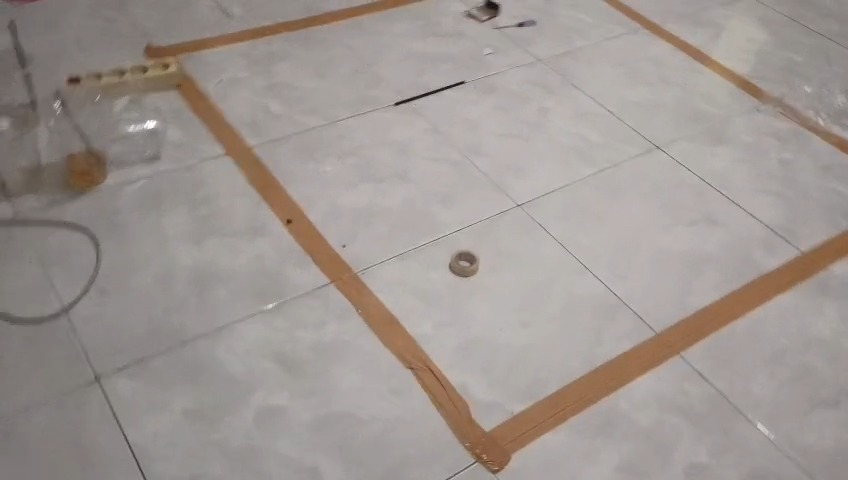floor marking: (179, 75, 847, 472), (607, 0, 847, 153), (145, 0, 420, 57)
